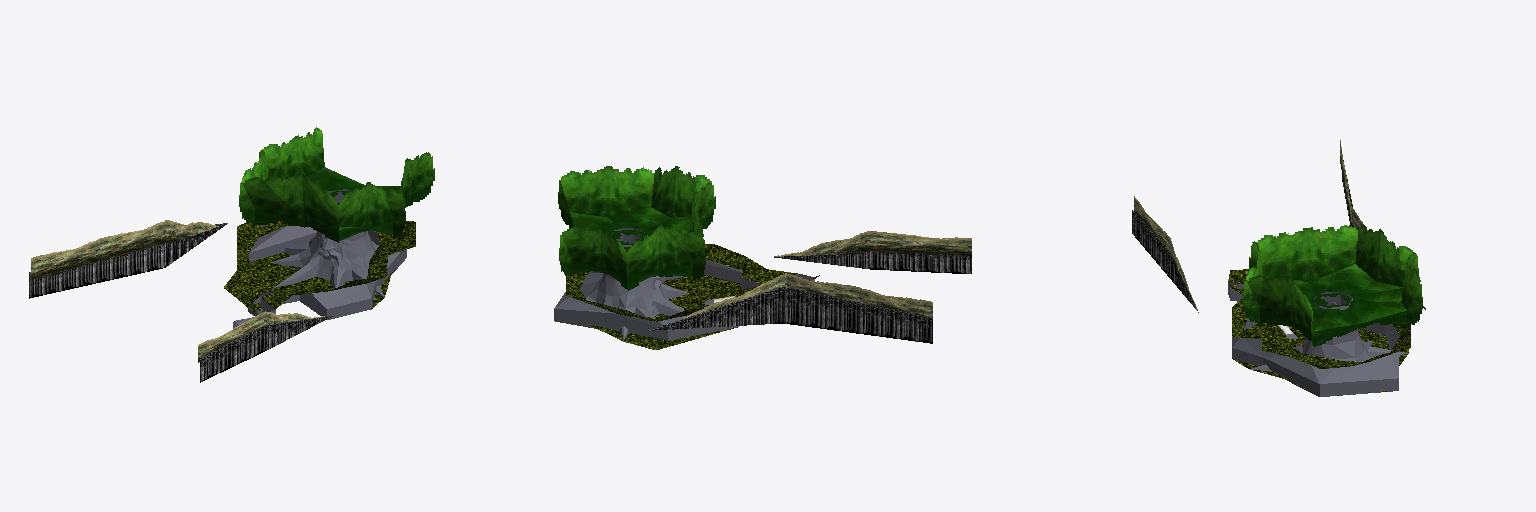
3 renders of one model, left to right at view 1: azimuth 30°, elevation 25°; view 2: azimuth 150°, elevation 25°; view 3: azimuth 270°, elevation 25°, orthographic.
Size of the model in its own units: 37.19 by 10.82 by 24.3.
28 materials, 6 textured.